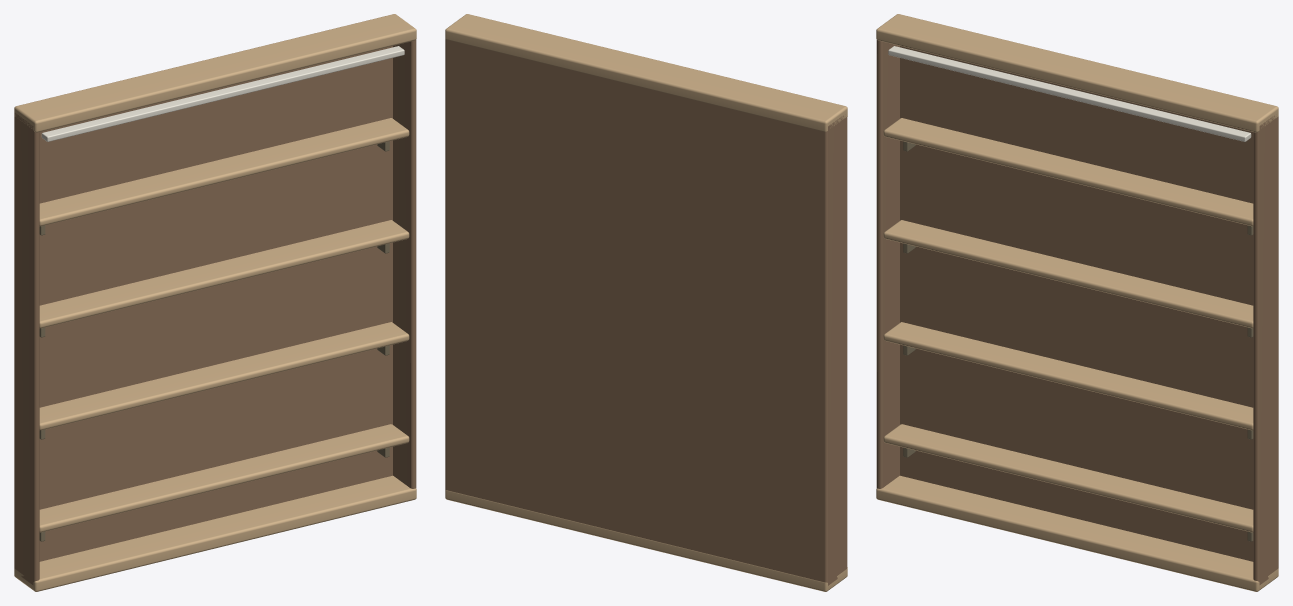
Rendered from wall_book.glb.
3 renders of one model, left to right at view 1: azimuth 30°, elevation 25°; view 2: azimuth 150°, elevation 25°; view 3: azimuth 330°, elevation 25°, orthographic.
Parts seen in each view (by area): view 1: Closed back, seated against existing opaque boundary, Bottom / crown.001, Outer stile, Bottom / crown, Outer stile.001, Load-bearing shelf, Load-bearing shelf.003, Load-bearing shelf.001, Load-bearing shelf.002, Integrated light diffuser; view 2: Closed back, seated against existing opaque boundary, Bottom / crown.001, Outer stile, Bottom / crown; view 3: Closed back, seated against existing opaque boundary, Bottom / crown.001, Outer stile.001, Bottom / crown, Outer stile, Load-bearing shelf, Load-bearing shelf.003, Load-bearing shelf.001, Load-bearing shelf.002, Integrated light diffuser.
Part boxes in pixels (bbox=[...]): Closed back, seated against existing opaque boundary: bbox=[14, 46, 392, 568]; Bottom / crown.001: bbox=[14, 14, 416, 132]; Outer stile: bbox=[15, 113, 39, 584]; Bottom / crown: bbox=[14, 475, 416, 591]; Outer stile.001: bbox=[393, 40, 416, 488]; Load-bearing shelf: bbox=[39, 424, 409, 532]; Load-bearing shelf.003: bbox=[39, 118, 409, 226]; Load-bearing shelf.001: bbox=[39, 322, 409, 430]; Load-bearing shelf.002: bbox=[39, 220, 409, 328]; Integrated light diffuser: bbox=[41, 46, 404, 141]; Closed back, seated against existing opaque boundary: bbox=[445, 39, 828, 585]; Bottom / crown.001: bbox=[445, 14, 847, 131]; Outer stile: bbox=[828, 115, 847, 584]; Bottom / crown: bbox=[445, 490, 847, 591]; Closed back, seated against existing opaque boundary: bbox=[900, 46, 1278, 568]; Bottom / crown.001: bbox=[876, 14, 1278, 132]; Outer stile.001: bbox=[1253, 115, 1277, 584]; Bottom / crown: bbox=[876, 475, 1278, 591]; Outer stile: bbox=[876, 40, 899, 488]; Load-bearing shelf: bbox=[883, 424, 1253, 532]; Load-bearing shelf.003: bbox=[883, 118, 1253, 226]; Load-bearing shelf.001: bbox=[883, 322, 1253, 430]; Load-bearing shelf.002: bbox=[883, 220, 1253, 328]; Integrated light diffuser: bbox=[888, 46, 1251, 141].
Size of the model in its own units: 2 by 2.36 by 0.2.
